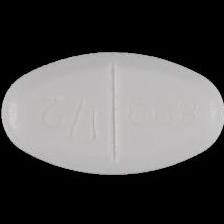0179-1999: (0, 0, 224, 224)
